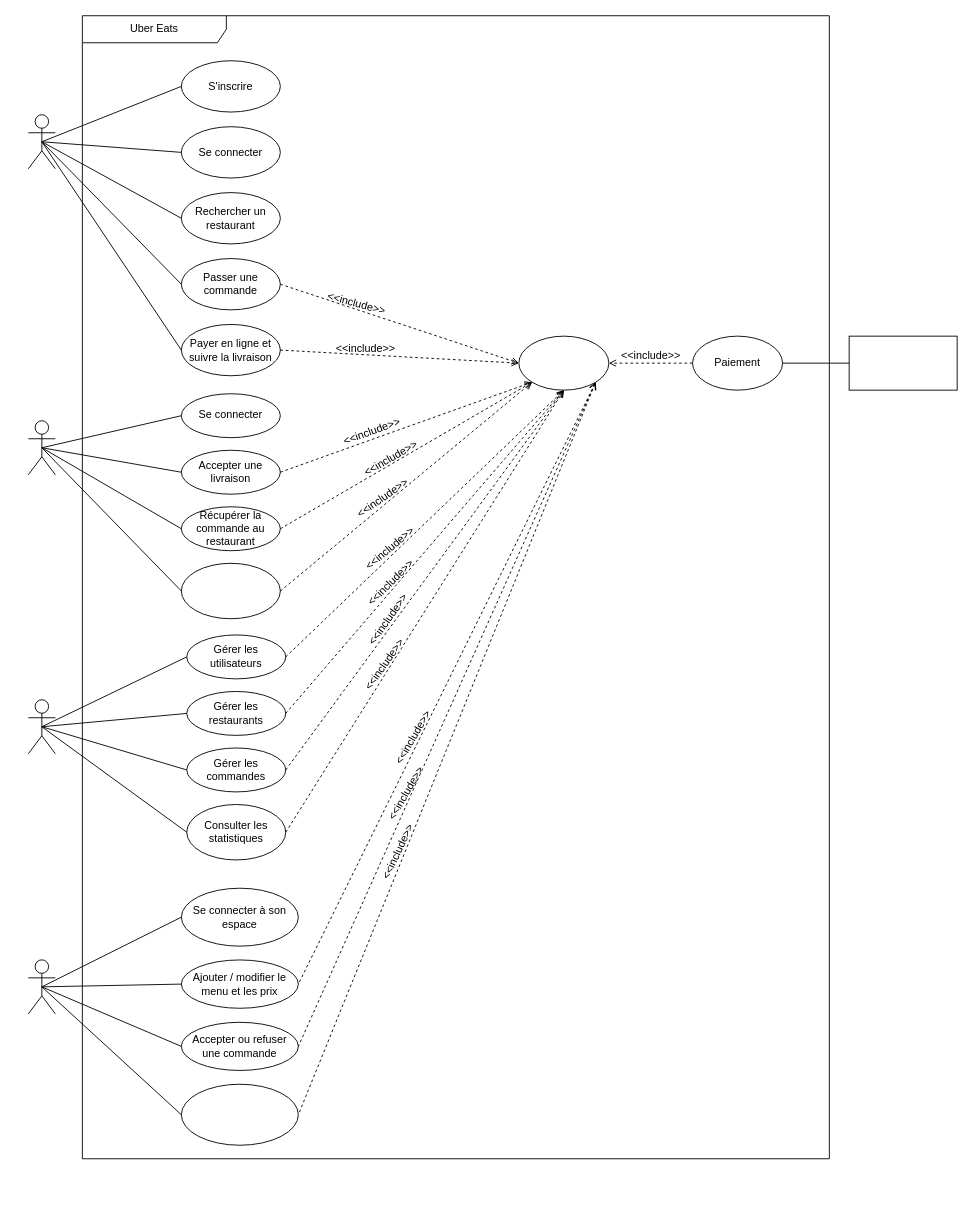
This 973x1211 diagram has some shape labels left out. The shapes that lost their labels are listed below. From the top down, each one's centre as x and y in pixels, then its label:
At [41,141]: "client".
At [563,362]: "Auth".
At [902,362]: "Stripe".
At [41,447]: "Livreur".
At [230,590]: "Livrer la commande au client".
At [41,726]: "Admin".
At [41,986]: "Restaurant".
At [239,1114]: "Préparer la commande".
